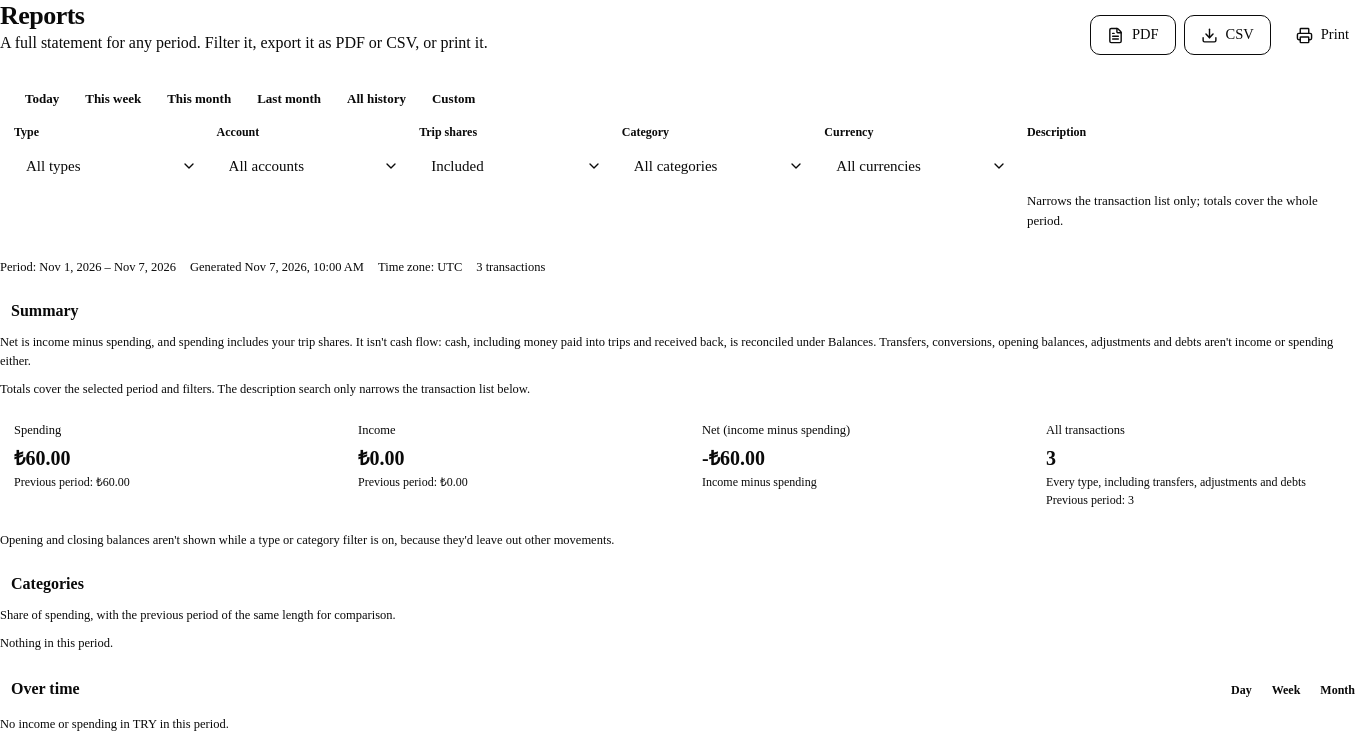
it: printing a report › explains the limit first and labels the result partial
This screenshot has width=1366, height=739.
Step 1. Click the button "Print" → (1322, 35), box [1279,15,1365,55]
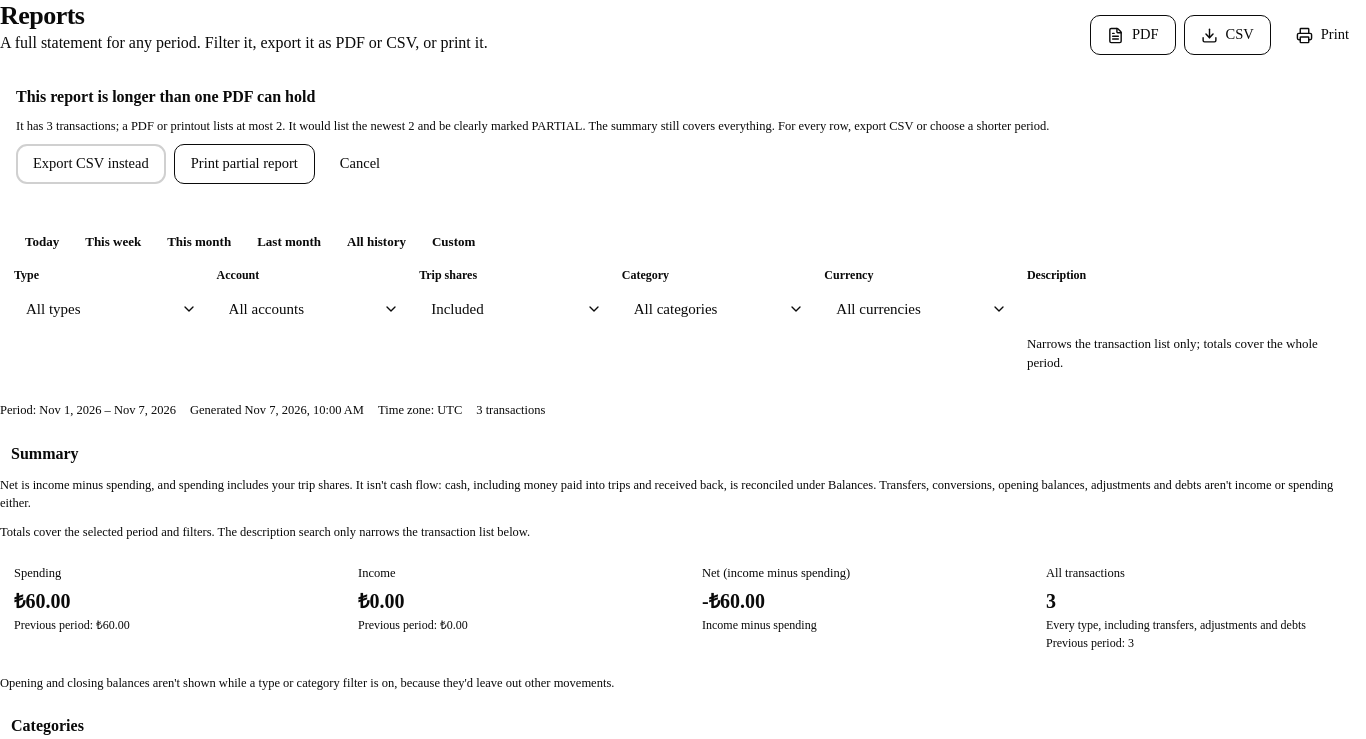
Now the text "This report is longer than one PDF can hold" is shown, box [16,88,315,105]
Step 2. Click the button "Print partial report" → (244, 164), box [174,144,315,184]
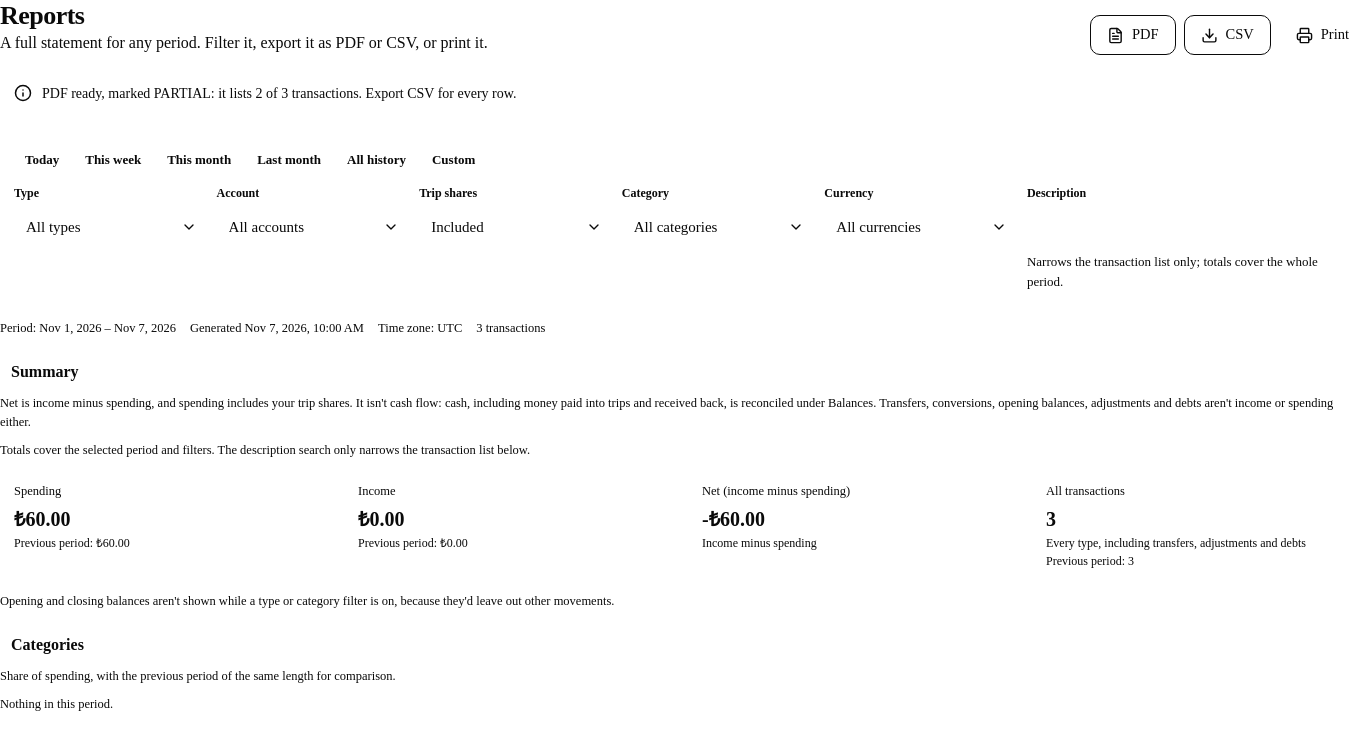
Now the text "PDF ready, marked PARTIAL: it lists 2 of 3 transactions. Export CSV for every row." is shown, box [42,86,516,101]
